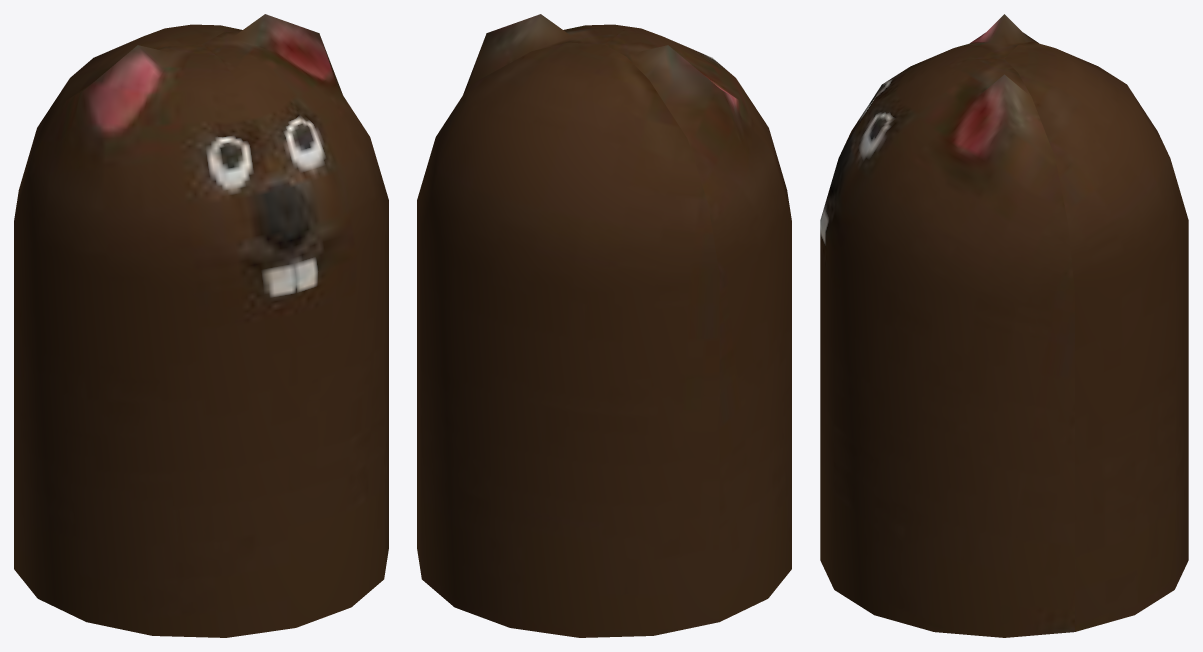
Rendered from mole.obj.
The picture shows the model from 3 angles, left to right: view 1: azimuth 30°, elevation 25°; view 2: azimuth 150°, elevation 25°; view 3: azimuth 270°, elevation 25°; orthographic projection. The views are drawn at different scales.
Parts seen in each view (by area): view 1: Object001; view 2: Object001; view 3: Object001.
Part boxes in pixels (<box>): Object001: <box>14,14,388,637</box>; Object001: <box>417,14,791,637</box>; Object001: <box>820,14,1188,637</box>.
Bounding box in the file's own units: 8.13 × 12.56 × 8.13.
1 material, 1 textured.
